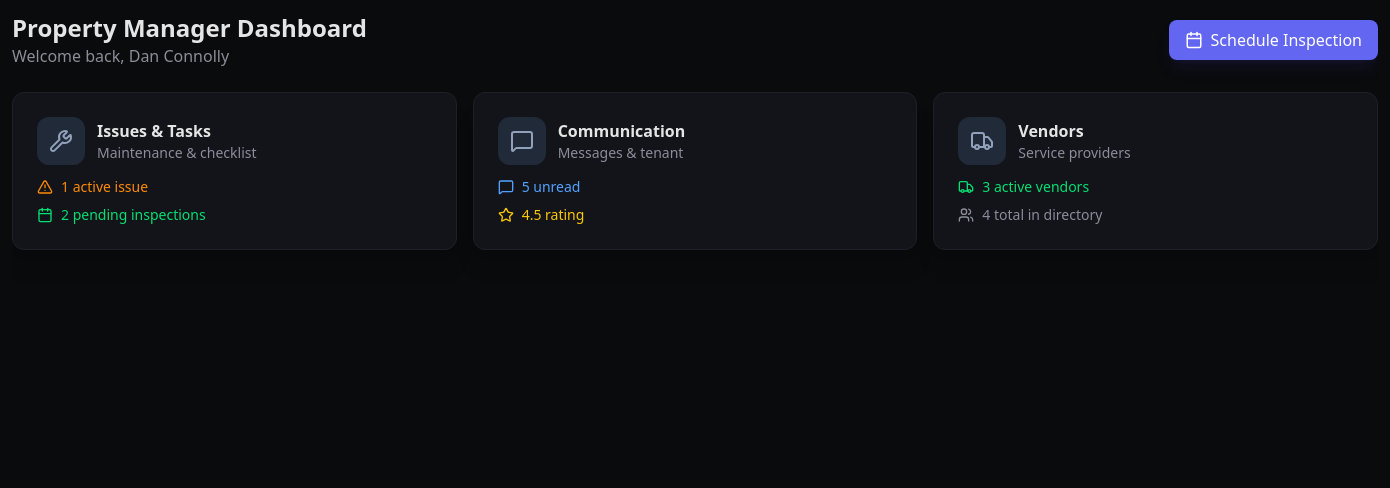
Test case: PMDashboard › Card Expansion › should expand Communication card when clicked
The width and height of the screenshot is (1390, 488).
Click the button "Communication Messages & tenant 5 unread 4.5 rating": (522, 141) [473,92,917,250]
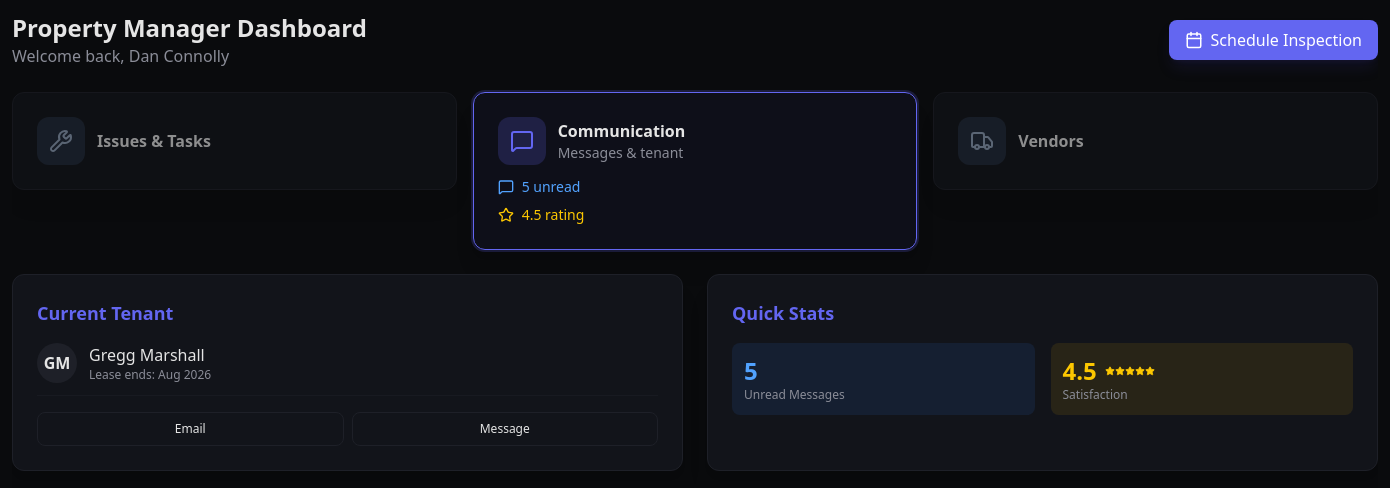
Expected: the heading "Current Tenant" is shown, [37,301,173,325]
Expected: the heading "Quick Stats" is shown, [732,301,834,325]
